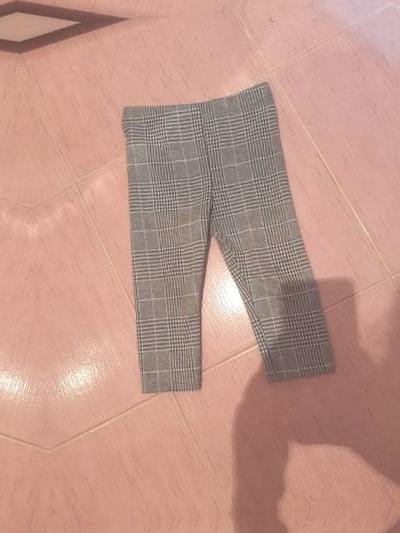Pants: (88, 61, 349, 406)
